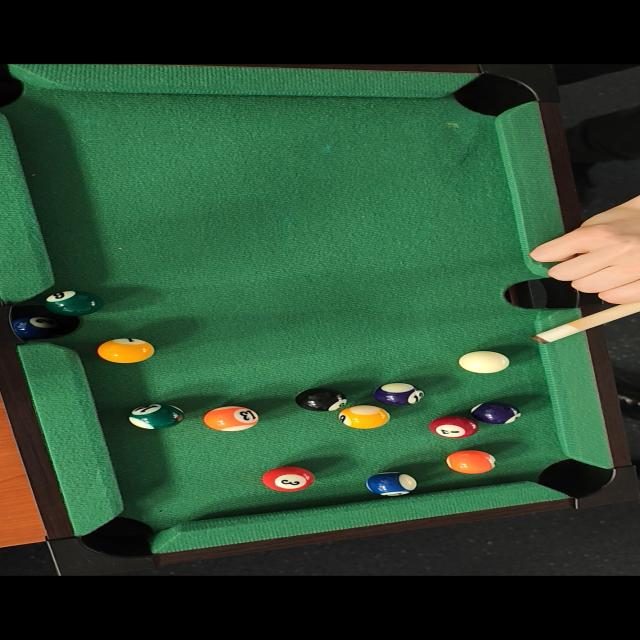cue ball: (457, 348, 512, 378)
other: (126, 398, 189, 432), (88, 337, 162, 365), (371, 378, 432, 408), (203, 405, 264, 433), (259, 462, 315, 492), (334, 404, 392, 432), (44, 286, 98, 316), (360, 472, 418, 498), (444, 450, 504, 474), (292, 386, 346, 412), (467, 400, 524, 424), (427, 416, 477, 440)
